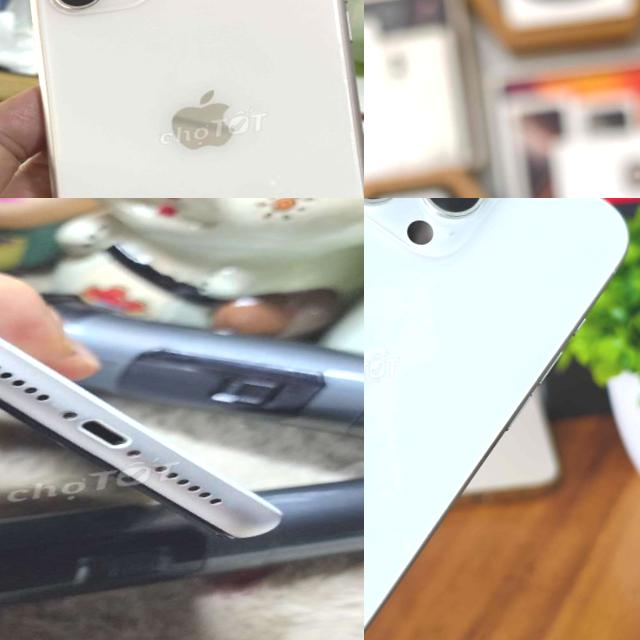gen_11: (3, 0, 364, 198), (0, 337, 280, 538)
gen_15: (364, 198, 640, 640)
